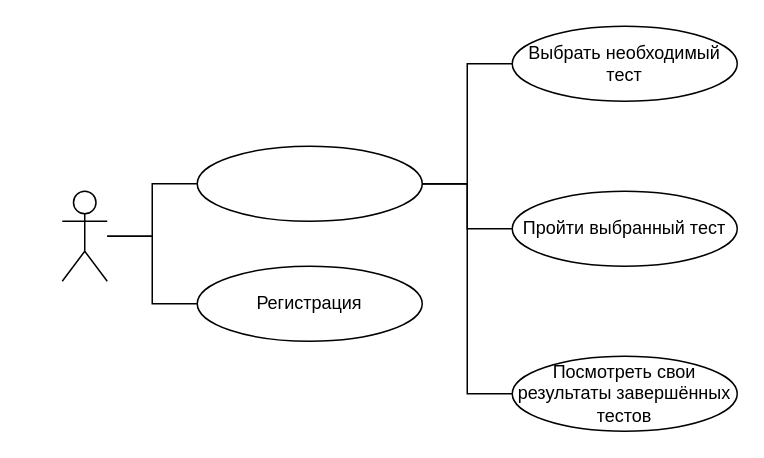
Some shapes in this 764 by 458 pixel diagram are drawn without their labels. The shapes that lost their labels are listed below. From the top down, each one's centre as x and y in pixels, then its label:
(x=309, y=183): Авторизация
(x=84, y=235): Пользователь
